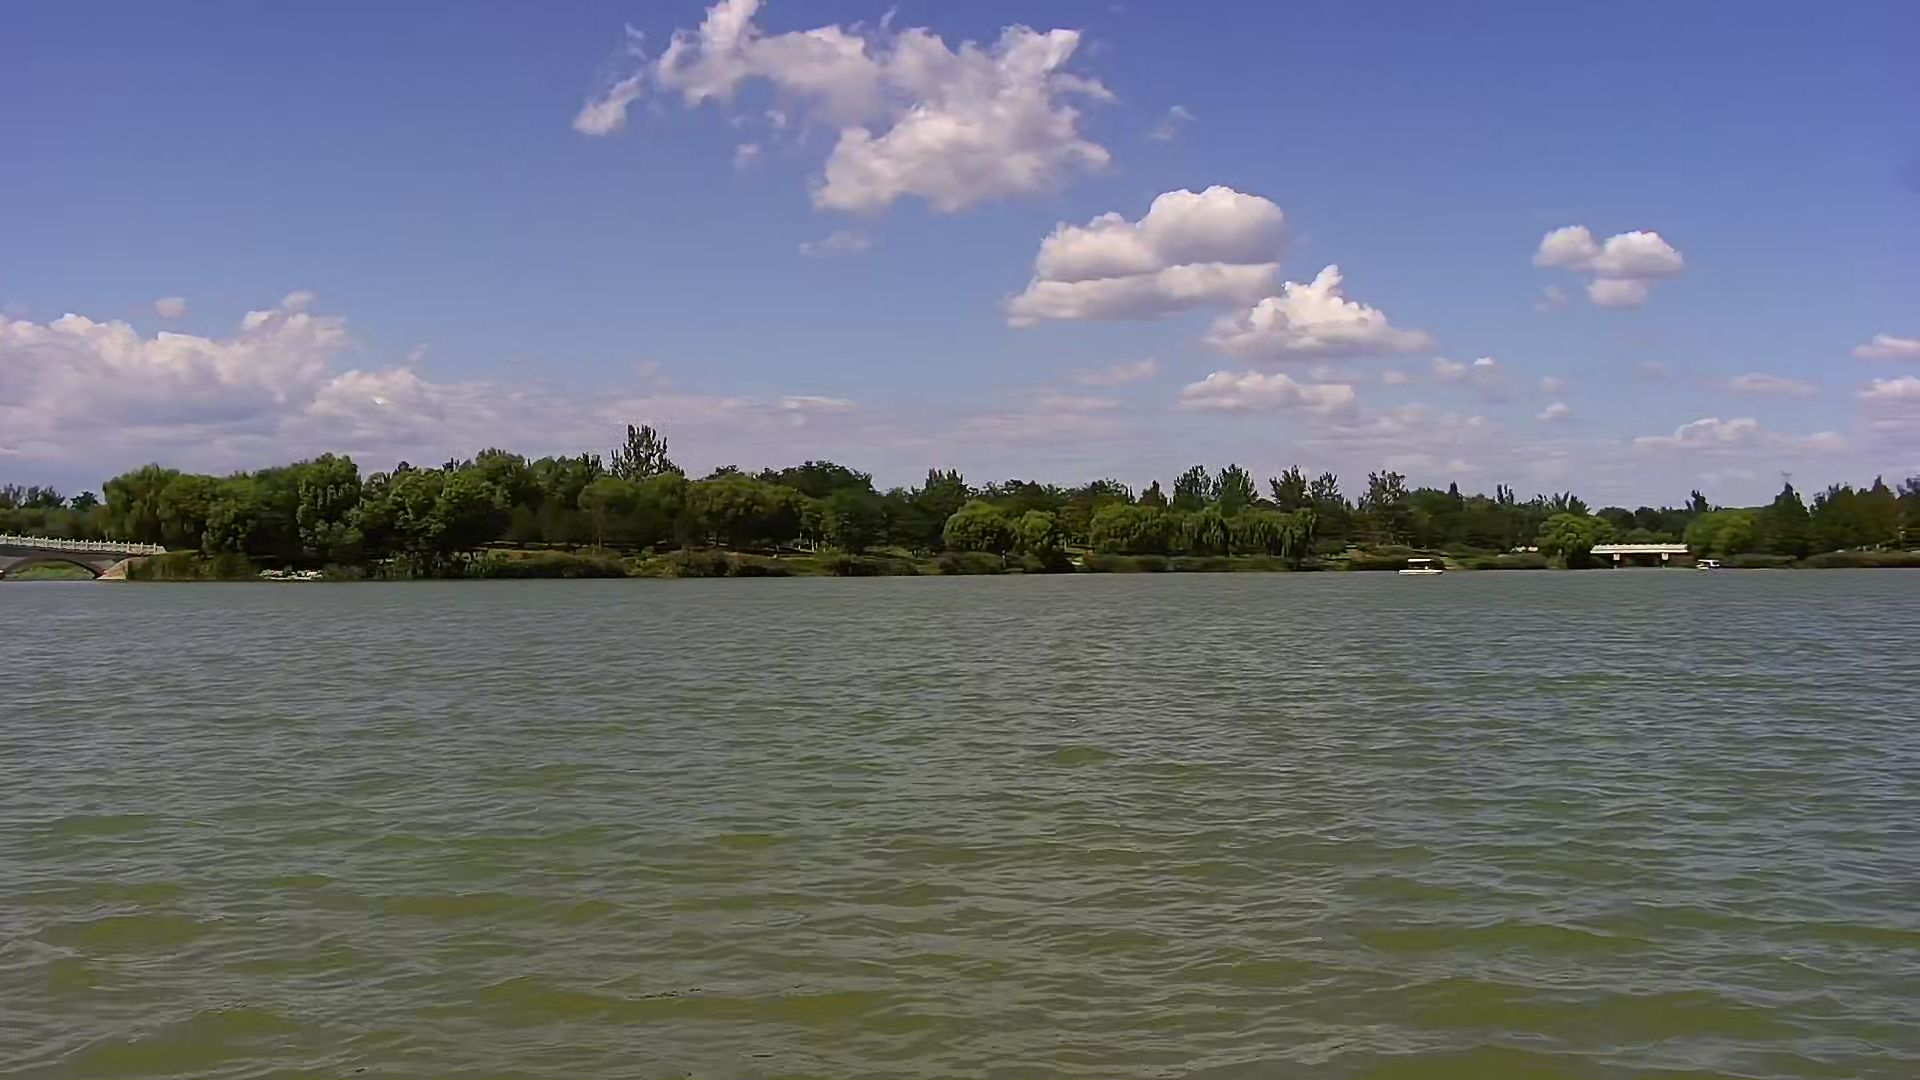bridge: (1, 534, 137, 585), (1588, 541, 1687, 563)
